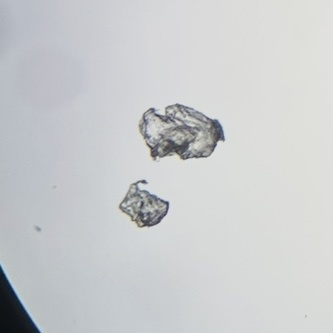microplastic: (139, 104, 225, 161), (119, 180, 169, 227)
